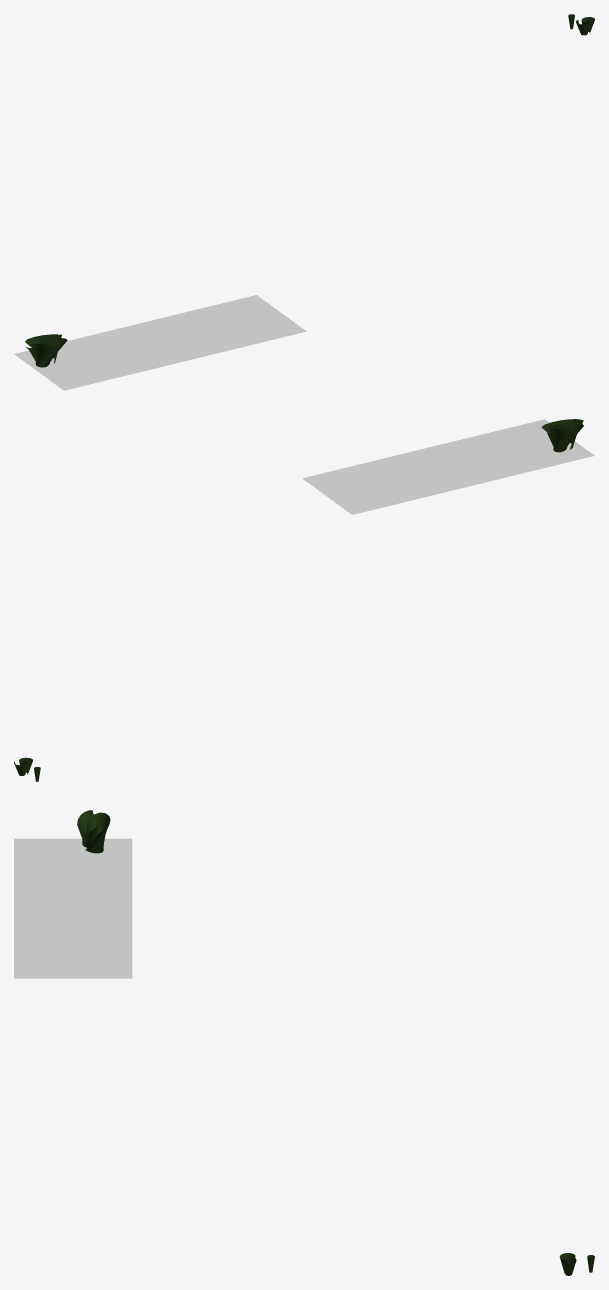
The model's file is S_Grass_01b.fbx.
The picture shows the model from 3 angles, top to bottom: view 1: azimuth 30°, elevation 25°; view 2: azimuth 210°, elevation 25°; view 3: azimuth 270°, elevation 25°; orthographic projection. The views are drawn at different scales.
Parts seen in each view (by area): view 1: Plane001, Plane004; view 2: Plane001, Plane004; view 3: Plane001, Plane004.
Part boxes in pixels (bbox=[...]): Plane001: bbox=[14, 295, 306, 390]; Plane004: bbox=[25, 334, 67, 367]; Plane001: bbox=[302, 419, 594, 514]; Plane004: bbox=[542, 419, 583, 452]; Plane001: bbox=[14, 838, 132, 978]; Plane004: bbox=[77, 810, 110, 853].
Bounding box in the file's own units: 362 × 9.57 × 200.
